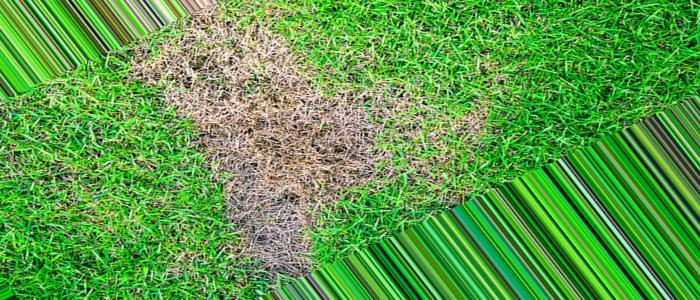patch: (181, 41, 321, 145), (233, 164, 324, 236), (339, 109, 380, 174)
